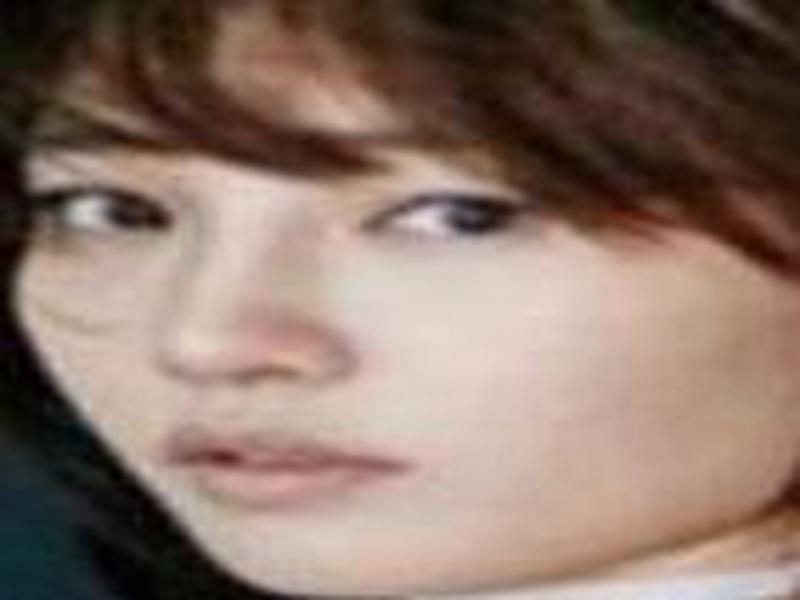without_mask: (9, 108, 800, 600)
